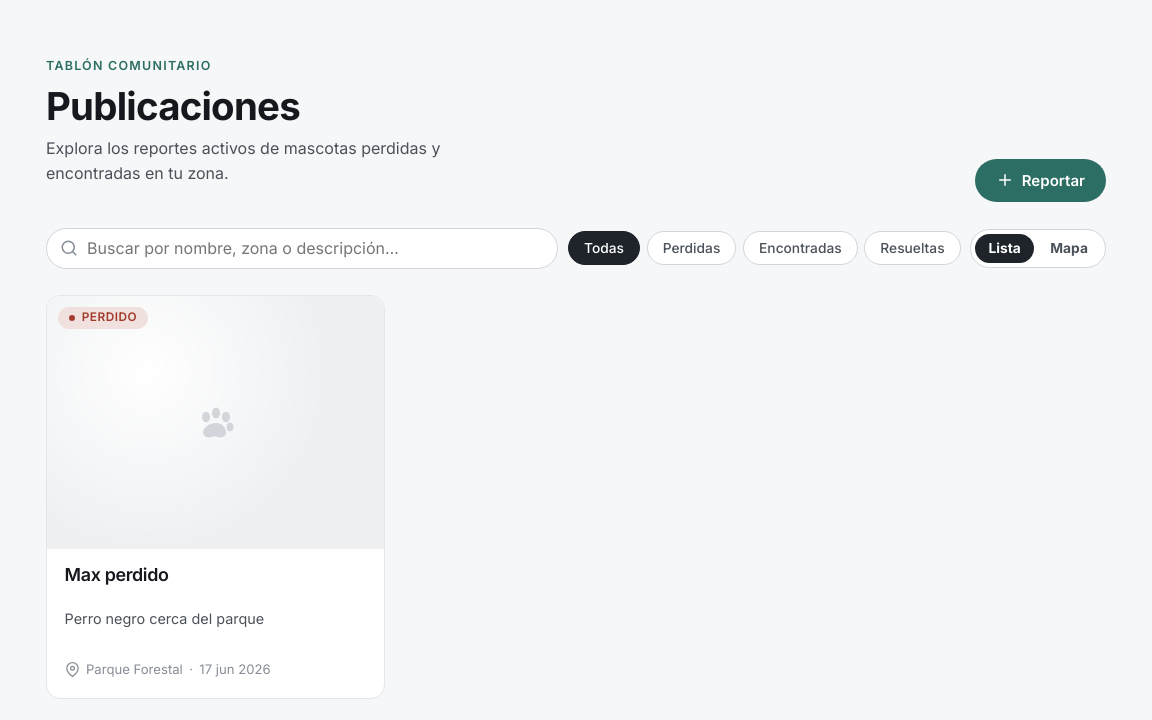
Test: PublicacionesPage › muestra estado vacío al filtrar sin resultados
Check: the heading "Max perdido" is shown, box x1=65 y1=564 x2=169 y2=585
Click the button "Encontradas": (800, 248) x1=743 y1=232 x2=858 y2=266
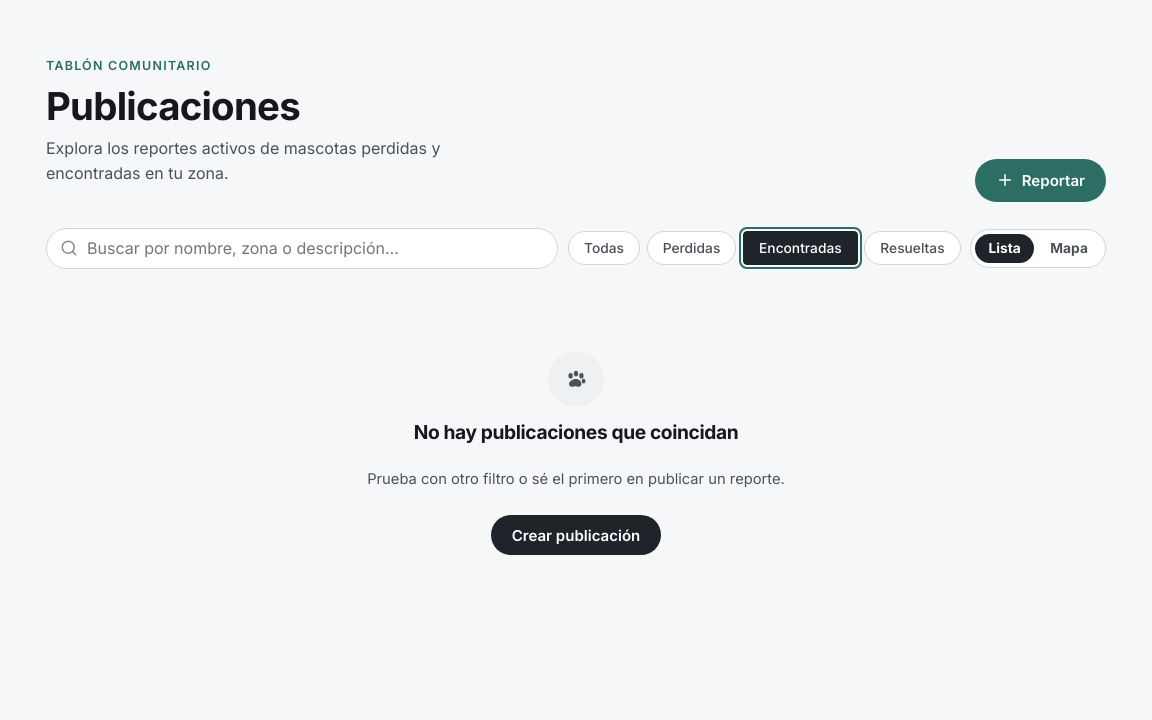
Check: the heading "No hay publicaciones que coincidan" is shown, box x1=414 y1=421 x2=738 y2=444
